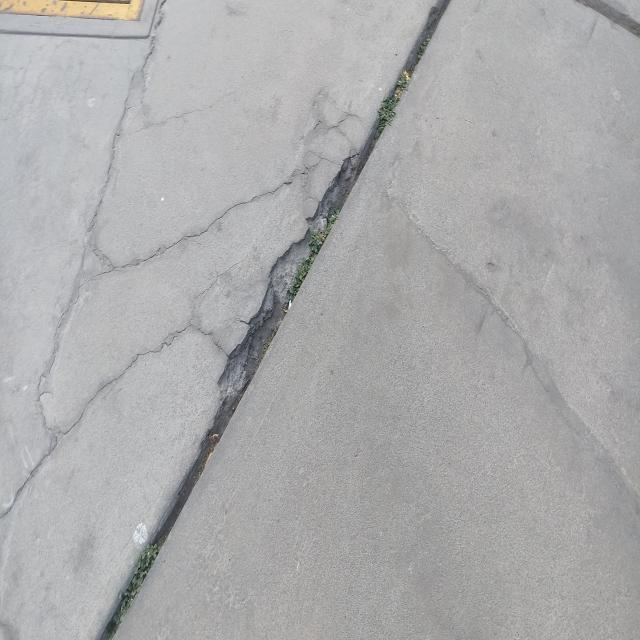hole: (198, 115, 396, 441)
